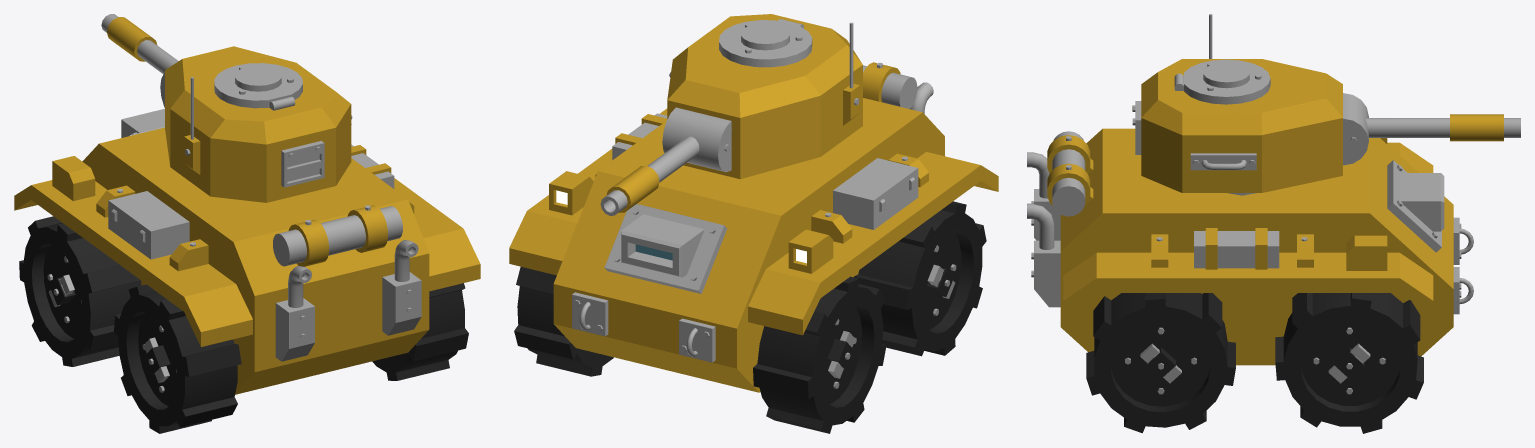
Rendered from _Tank.fbx.
3 views of the same model, side by side, from view 1: azimuth 30°, elevation 25°; view 2: azimuth 150°, elevation 25°; view 3: azimuth 270°, elevation 25° (orthographic). The views are drawn at different scales.
Visible parts, largest first — view 1: TankFree_Body, TankFree_Tower, TankFree_Wheel_b_left, TankFree_Wheel_f_left, TankFree_Wheel_b_right, TankFree_Canon; view 2: TankFree_Body, TankFree_Tower, TankFree_Wheel_f_left, TankFree_Wheel_b_left, TankFree_Wheel_f_right, TankFree_Canon; view 3: TankFree_Body, TankFree_Tower, TankFree_Wheel_b_right, TankFree_Wheel_f_right, TankFree_Canon.
Boxes of the visible parts, x1=… form: TankFree_Body: x1=14, y1=108, x2=480, y2=394; TankFree_Tower: x1=160, y1=46, x2=352, y2=202; TankFree_Wheel_b_left: x1=113, y1=284, x2=241, y2=433; TankFree_Wheel_f_left: x1=19, y1=216, x2=141, y2=366; TankFree_Wheel_b_right: x1=372, y1=283, x2=468, y2=380; TankFree_Canon: x1=101, y1=14, x2=178, y2=74; TankFree_Body: x1=509, y1=62, x2=998, y2=392; TankFree_Tower: x1=662, y1=14, x2=862, y2=179; TankFree_Wheel_f_left: x1=753, y1=276, x2=886, y2=433; TankFree_Wheel_b_left: x1=854, y1=201, x2=986, y2=356; TankFree_Wheel_f_right: x1=514, y1=267, x2=613, y2=376; TankFree_Canon: x1=600, y1=136, x2=699, y2=215; TankFree_Body: x1=1027, y1=128, x2=1473, y2=365; TankFree_Tower: x1=1132, y1=14, x2=1368, y2=195; TankFree_Wheel_b_right: x1=1086, y1=293, x2=1235, y2=433; TankFree_Wheel_f_right: x1=1275, y1=293, x2=1423, y2=433; TankFree_Canon: x1=1366, y1=114, x2=1520, y2=141.
Bounding box in the file's own units: 193 × 208 × 294.
1 material, 1 textured.
